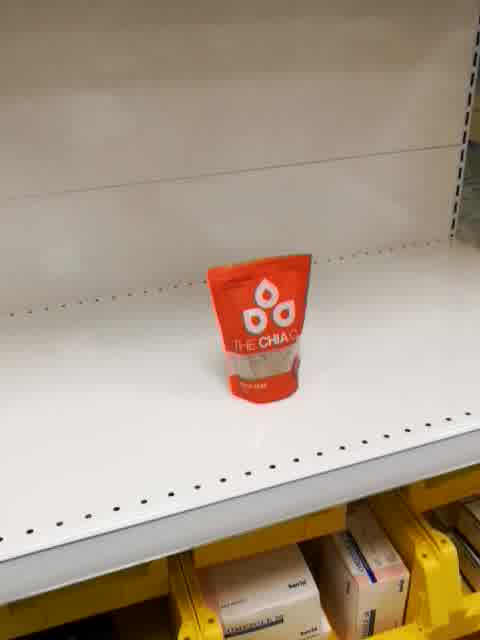whitechia: (204, 251, 317, 405)
